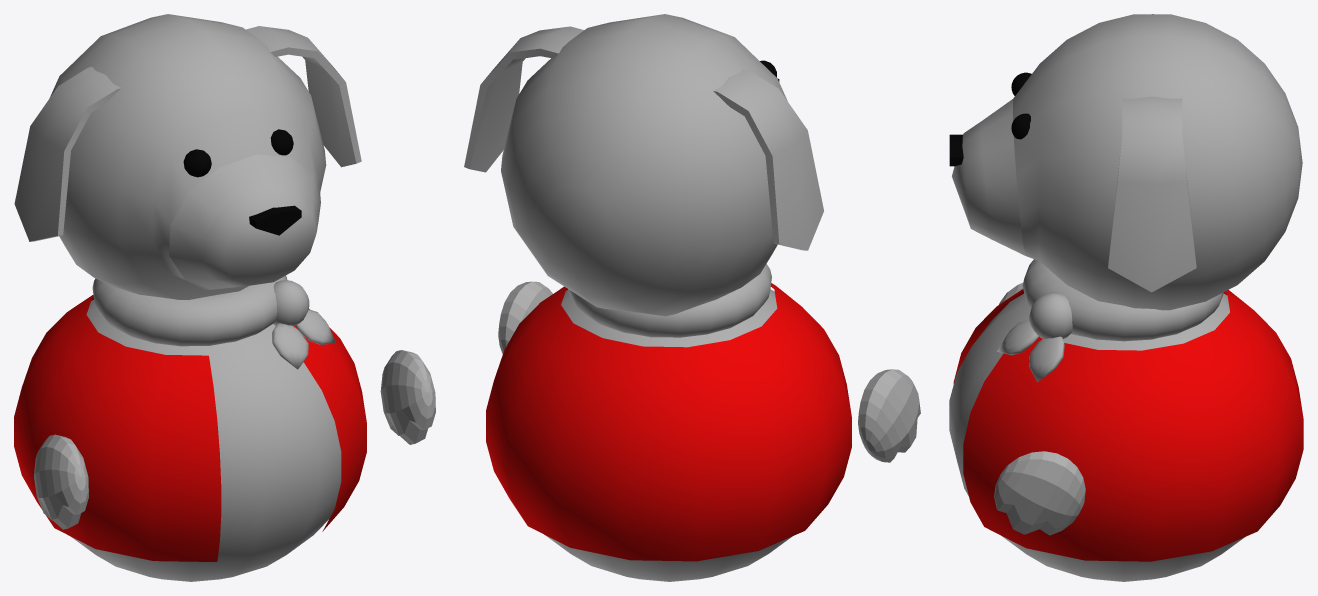
The model's file is Player.fbx.
3 renders of one model, left to right at view 1: azimuth 30°, elevation 25°; view 2: azimuth 150°, elevation 25°; view 3: azimuth 270°, elevation 25°, orthographic. The views are drawn at different scales.
Parts seen in each view (by area): view 1: Head, Player:Clothes, Body, Player:Scarf, Player1:Ear_L, Player1:Ear_R1, Player:Hand_R, Player:Hand_L, Player:Knot, Player:L, Player1:Nose, Player:R (+1 smaller); view 2: Player:Clothes, Head, Player1:Ear_L, Body, Player1:Ear_R1, Player:Scarf, Player:Hand_L, Player:Hand_R; view 3: Head, Player:Clothes, Player1:Ear_R1, Body, Player:Hand_R, Player:Scarf, Player:Knot, Player:R, Player:L.
Boxes of the visible parts, x1,y1,x2,y2 form: Head: (50,14,326,299); Player:Clothes: (14,295,366,561); Body: (71,299,341,581); Player:Scarf: (92,275,287,346); Player1:Ear_L: (14,67,121,241); Player1:Ear_R1: (246,26,361,167); Player:Hand_R: (380,350,435,444); Player:Hand_L: (34,434,88,529); Player:Knot: (273,280,309,326); Player:L: (272,323,308,369); Player1:Nose: (249,205,301,235); Player:R: (295,309,335,344); Player:Clothes: (486,283,851,561); Head: (501,14,787,316); Player1:Ear_L: (713,68,823,250); Body: (545,289,792,581); Player1:Ear_R1: (464,26,584,172); Player:Scarf: (568,264,771,337); Player:Hand_L: (858,369,920,462); Player:Hand_R: (498,281,552,354); Head: (952,14,1302,310); Player:Clothes: (953,289,1303,561); Player1:Ear_R1: (1108,96,1196,292); Body: (949,293,1244,581); Player:Hand_R: (994,451,1085,535); Player:Scarf: (1022,259,1223,341); Player:Knot: (1029,292,1072,338); Player:R: (1029,336,1064,382); Player:L: (997,320,1039,355).
Size of the model in its own units: 3.01 by 3.94 by 2.36.
